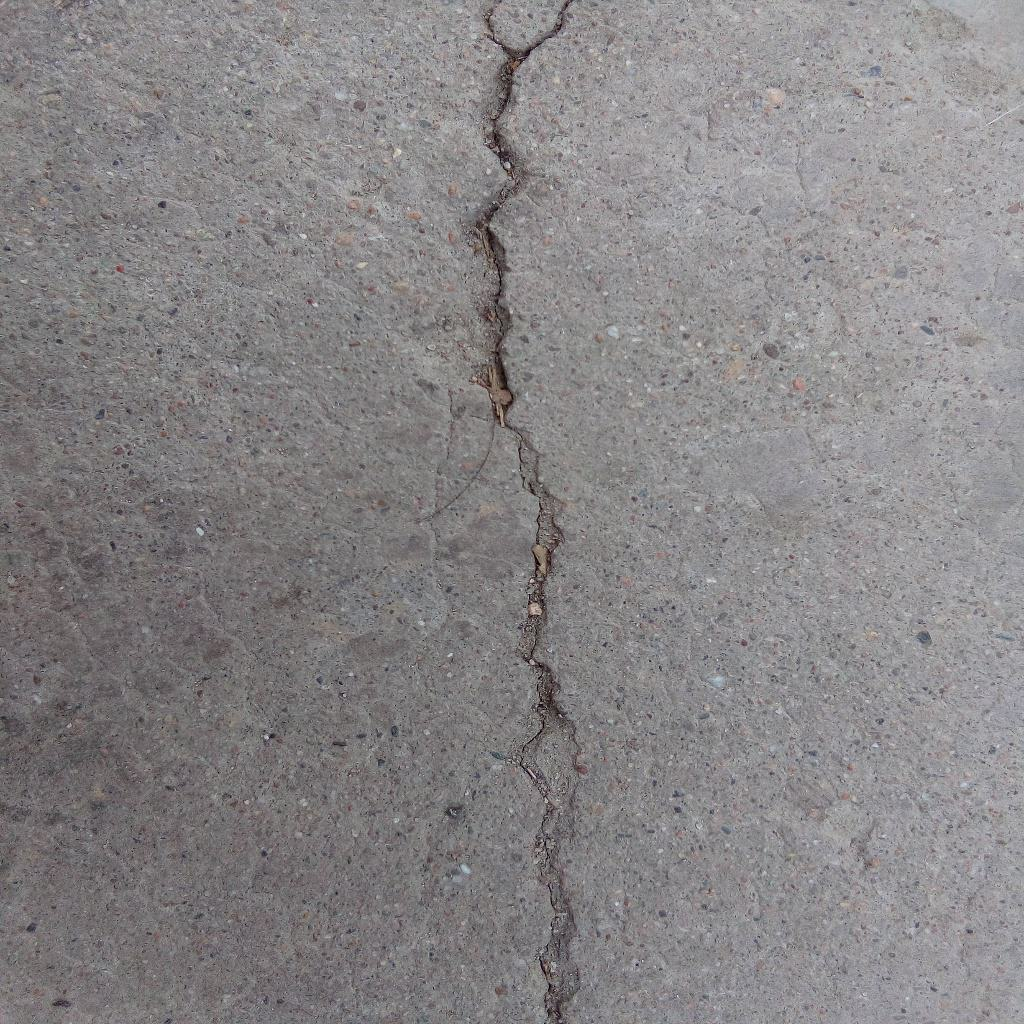Crack: (464, 1, 582, 1024)
